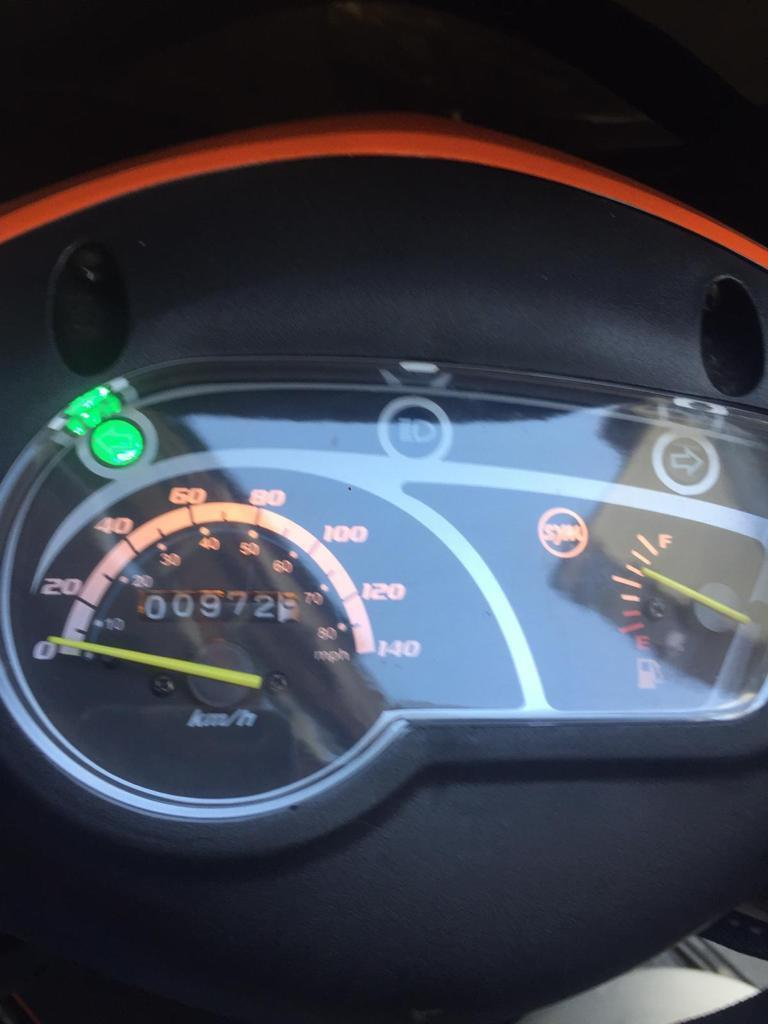0: (143, 592, 167, 621), (170, 592, 195, 619)
2: (251, 592, 276, 619)
7: (226, 588, 250, 617)
8: (279, 589, 302, 611)
9: (198, 592, 222, 619)
odometer: (130, 585, 305, 628)
